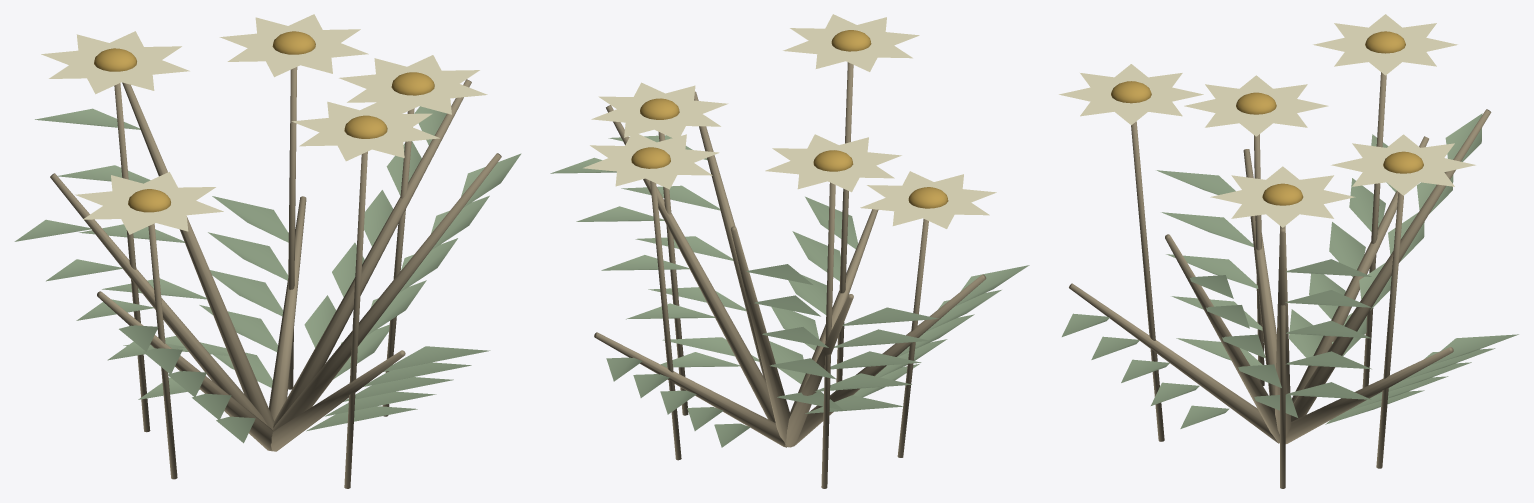
File: pacific-scrub.glb
3 renders of one model, left to right at view 1: azimuth 30°, elevation 25°; view 2: azimuth 150°, elevation 25°; view 3: azimuth 270°, elevation 25°, orthographic. The views are drawn at different scales.
Parts seen in each view (by area): view 1: LifeRoot_Sage woody branches, LifeRoot_Coastal sage silver green, LifeRoot_Coastal daisy ivory petals, LifeRoot_Daisy ochre center; view 2: LifeRoot_Coastal sage silver green, LifeRoot_Sage woody branches, LifeRoot_Coastal daisy ivory petals, LifeRoot_Daisy ochre center; view 3: LifeRoot_Sage woody branches, LifeRoot_Coastal sage silver green, LifeRoot_Coastal daisy ivory petals, LifeRoot_Daisy ochre center.
Boxes of the visible parts, x1,y1,x2,y2 form: LifeRoot_Sage woody branches: (50, 67, 501, 488); LifeRoot_Coastal sage silver green: (14, 106, 521, 443); LifeRoot_Coastal daisy ivory petals: (41, 14, 487, 234); LifeRoot_Daisy ochre center: (94, 31, 434, 212); LifeRoot_Coastal sage silver green: (550, 135, 1029, 447); LifeRoot_Sage woody branches: (594, 62, 986, 488); LifeRoot_Coastal daisy ivory petals: (583, 14, 996, 228); LifeRoot_Daisy ochre center: (631, 30, 948, 208); LifeRoot_Sage woody branches: (1069, 72, 1491, 488); LifeRoot_Coastal sage silver green: (1062, 113, 1518, 428); LifeRoot_Coastal daisy ivory petals: (1059, 14, 1475, 227); LifeRoot_Daisy ochre center: (1111, 31, 1423, 205).
Bounding box in the file's own units: 0.6206 × 0.5283 × 0.6067.
